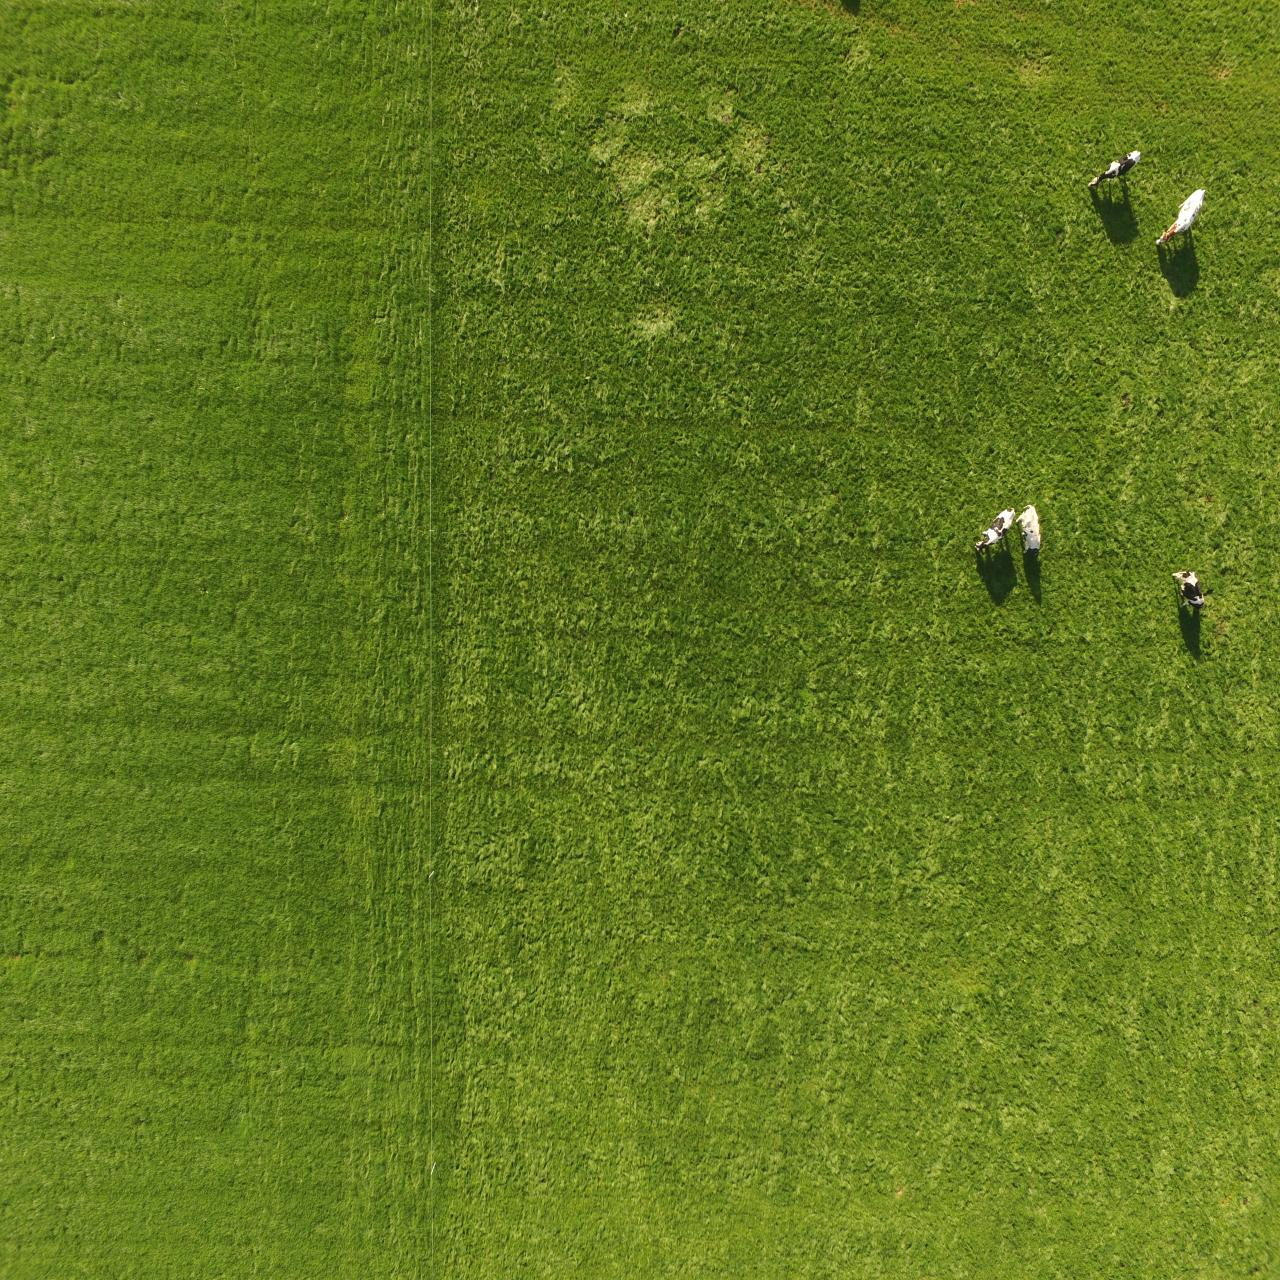cow: (1150, 184, 1213, 250), (1082, 143, 1148, 202), (971, 495, 1020, 556), (1167, 566, 1214, 617), (1014, 495, 1043, 561)
